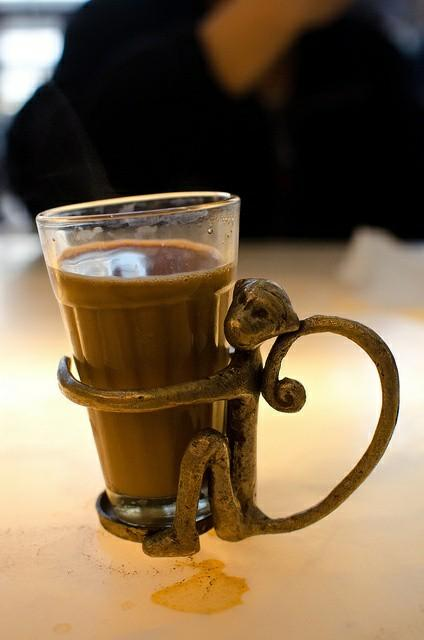Chai: (50, 239, 242, 502)
